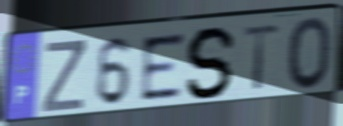6: (94, 34, 133, 109)
E: (140, 29, 187, 104)
O: (286, 15, 334, 94)
S: (184, 24, 240, 102)
T: (241, 21, 283, 94)
Z: (40, 38, 87, 115)
